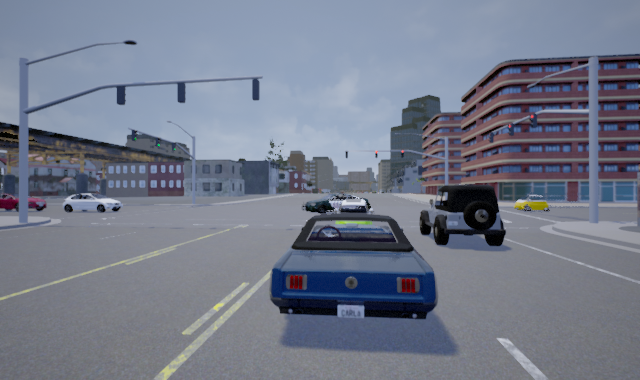vehicle: (269, 211, 438, 320), (418, 184, 505, 246), (330, 198, 376, 243), (298, 191, 371, 215), (62, 193, 123, 214), (1, 192, 53, 212), (512, 195, 551, 213)
